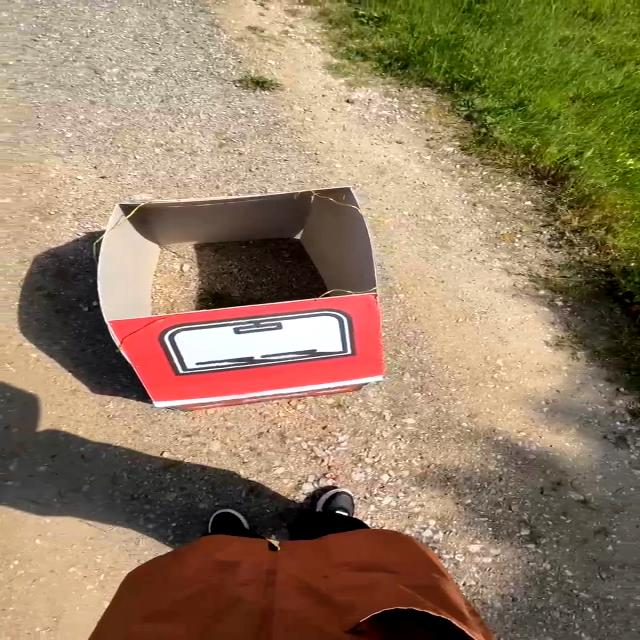red_car: (32, 171, 475, 423)
